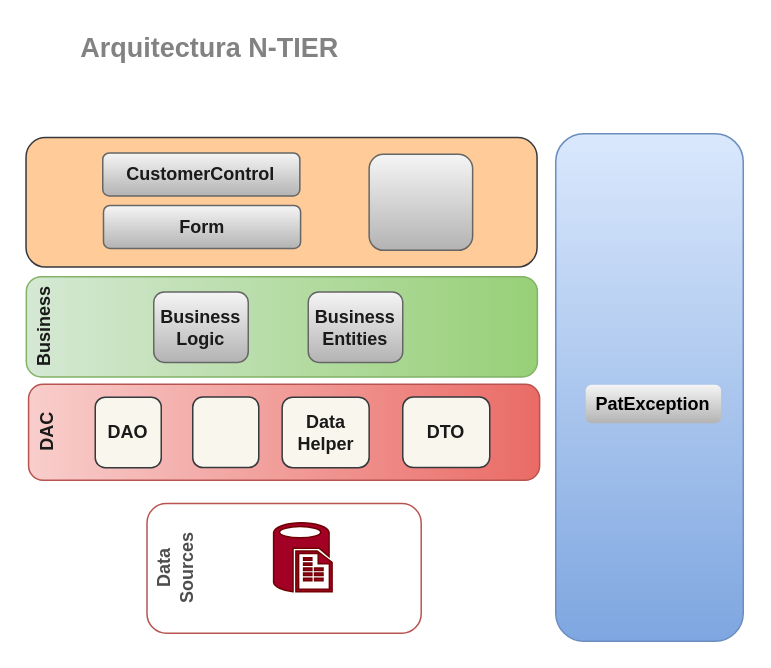
The diagram is 771 pixels wide and 668 high, and some of its shapes have lost their labels. Here are the shapes that lost their labels. From the top down, the box of each, then its label:
(24, 136, 537, 267): User Interface
(368, 153, 473, 250): Resource
(554, 132, 743, 641): Framework
(191, 396, 259, 468): IDAO
(272, 521, 332, 592): SQLITE
